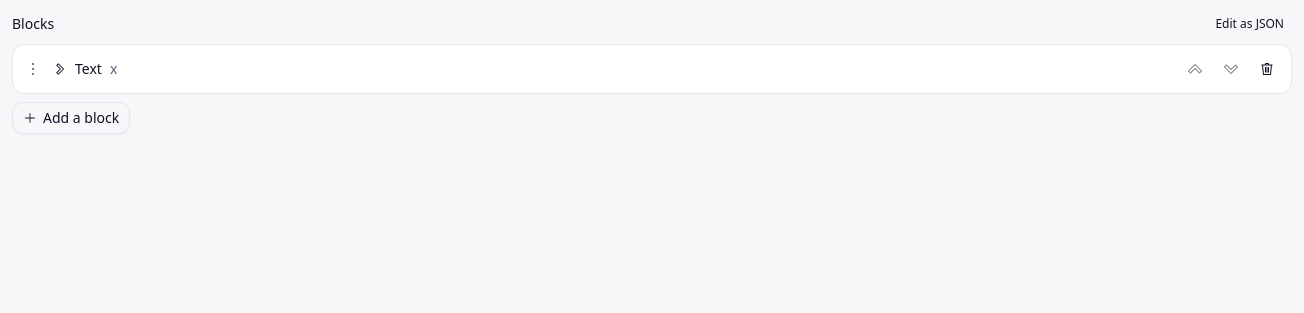
Scenario: the palette and the tenant saved blocks › says why a block cannot be saved when the site type has no Presets field
Click the button "Add a block": [71, 118] box 12,102 -> 130,134
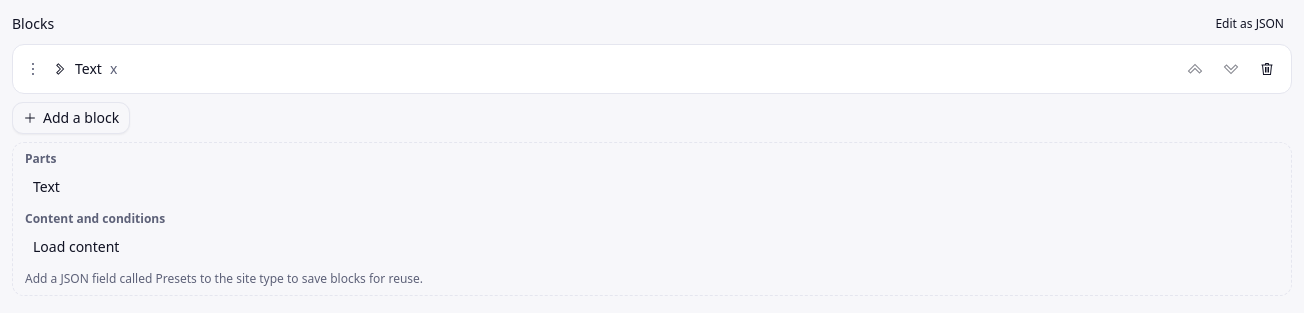
Expected: the text "JSON field called Presets" is shown, 25,270 -> 423,287
